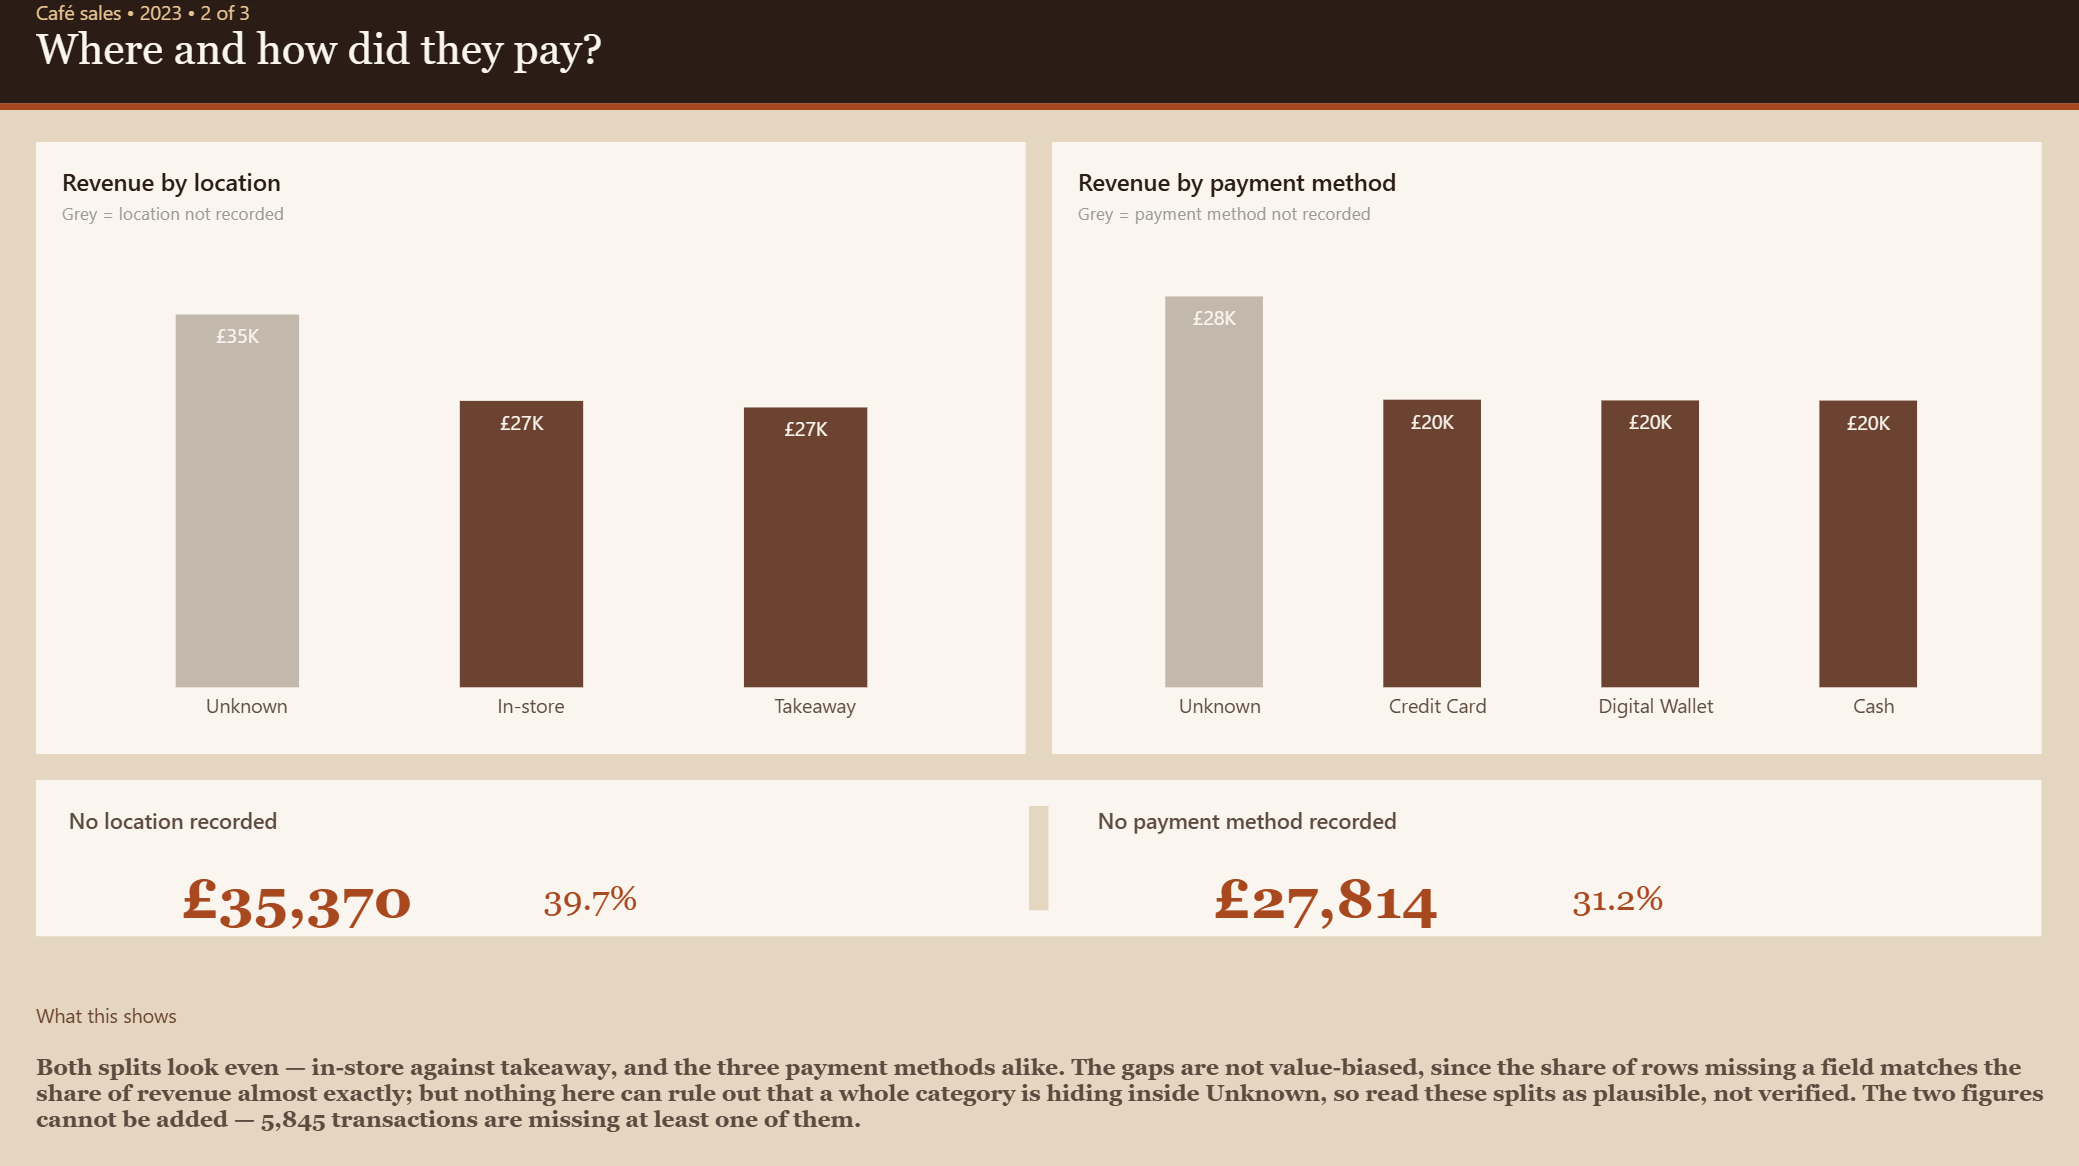

The page's visual inventory and layout, read from the dashboard file:
{"tool":"powerbi","page":{"name":"2","canvas":[1280,720],"ordinal":1},"visuals":[{"type":"shape","title":"bg-cards-strip","box":[24,480,1232,96],"z":0},{"type":"textbox","title":"txt-commentary","box":[24,616,1256,88],"z":1000},{"type":"cardVisual","title":"No location recorded","fields":{"Data":["_Measures.Missing Location Total Revenue"]},"box":[24,480,300,96],"z":2000},{"type":"cardVisual","title":"No payment method recorded","fields":{"Data":["_Measures.Missing Payment Method Total Revenue"]},"box":[656,480,300,96],"z":3000},{"type":"cardVisual","title":" ","fields":{"Data":["_Measures.Missing Payment Method %"]},"box":[932,480,140,96],"z":4000},{"type":"cardVisual","title":" ","fields":{"Data":["_Measures.Missing Location %"]},"box":[300,480,140,96],"z":5000},{"type":"clusteredColumnChart","title":"Revenue by payment method","fields":{"Category":["cafe_project clean_cafe.PAYMENT_METHOD"],"Y":["_Measures.Total Revenue"]},"box":[648,88,608,376],"z":6000},{"type":"clusteredColumnChart","title":"Revenue by location","fields":{"Category":["cafe_project clean_cafe.LOCATION"],"Y":["_Measures.Total Revenue"]},"box":[24,88,608,376],"z":7000},{"type":"shape","title":"bar-header-rule","box":[0,52,1280,16],"z":8000},{"type":"shape","title":"bar-header-bg","box":[0,0,1280,64],"z":9000},{"type":"textbox","title":"bar-header-text","box":[24,0,760,64],"z":10000},{"type":"shape","title":"bar-header-bg","box":[634,496,12,64],"z":11000}]}

Visuals, with their boxes in screenshot pixels (x1, y1, x2, y2), scaled from the page's 1280x720 canvas onto the 2079x1166 screenshot:
"bg-cards-strip" shape: x1=39, y1=777, x2=2040, y2=933
"txt-commentary" textbox: x1=39, y1=998, x2=2078, y2=1140
"No location recorded" cardVisual: x1=39, y1=777, x2=526, y2=933
"No payment method recorded" cardVisual: x1=1065, y1=777, x2=1553, y2=933
" " cardVisual: x1=1514, y1=777, x2=1741, y2=933
" " cardVisual: x1=487, y1=777, x2=715, y2=933
"Revenue by payment method" clusteredColumnChart: x1=1052, y1=143, x2=2040, y2=751
"Revenue by location" clusteredColumnChart: x1=39, y1=143, x2=1027, y2=751
"bar-header-rule" shape: x1=0, y1=84, x2=2078, y2=110
"bar-header-bg" shape: x1=0, y1=0, x2=2078, y2=104
"bar-header-text" textbox: x1=39, y1=0, x2=1273, y2=104
"bar-header-bg" shape: x1=1030, y1=803, x2=1049, y2=907
